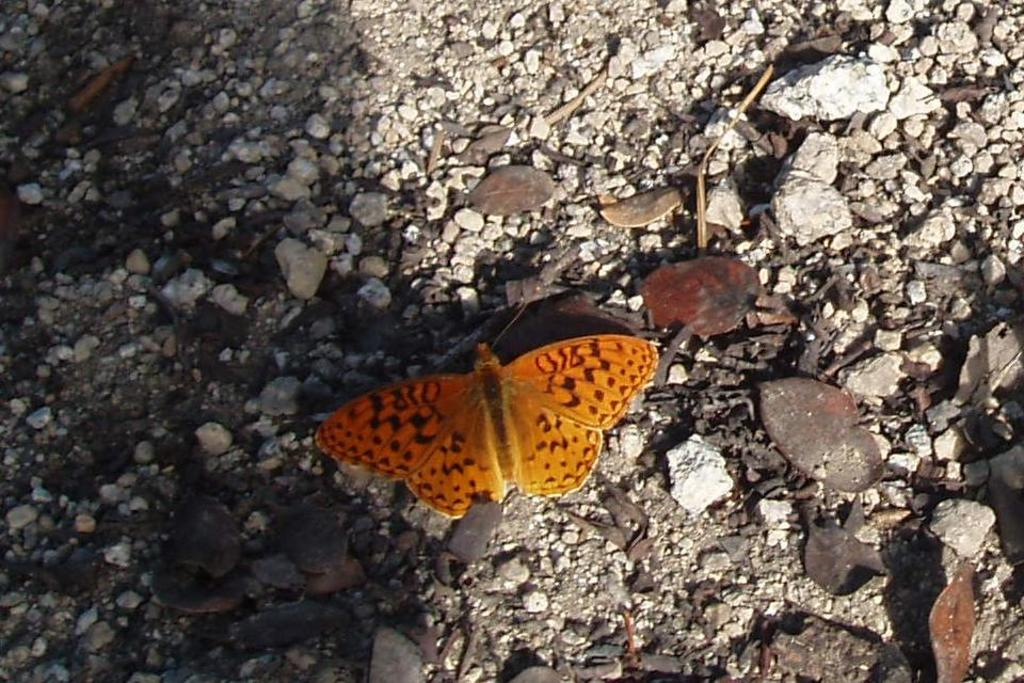Butterfly: (311, 323, 679, 514)
